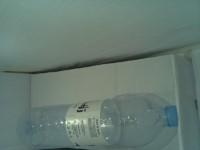BIODEGRADABLE: (115, 14, 200, 141)
